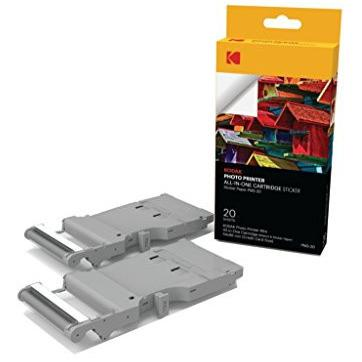Nonrec_Other: (7, 192, 261, 329)
